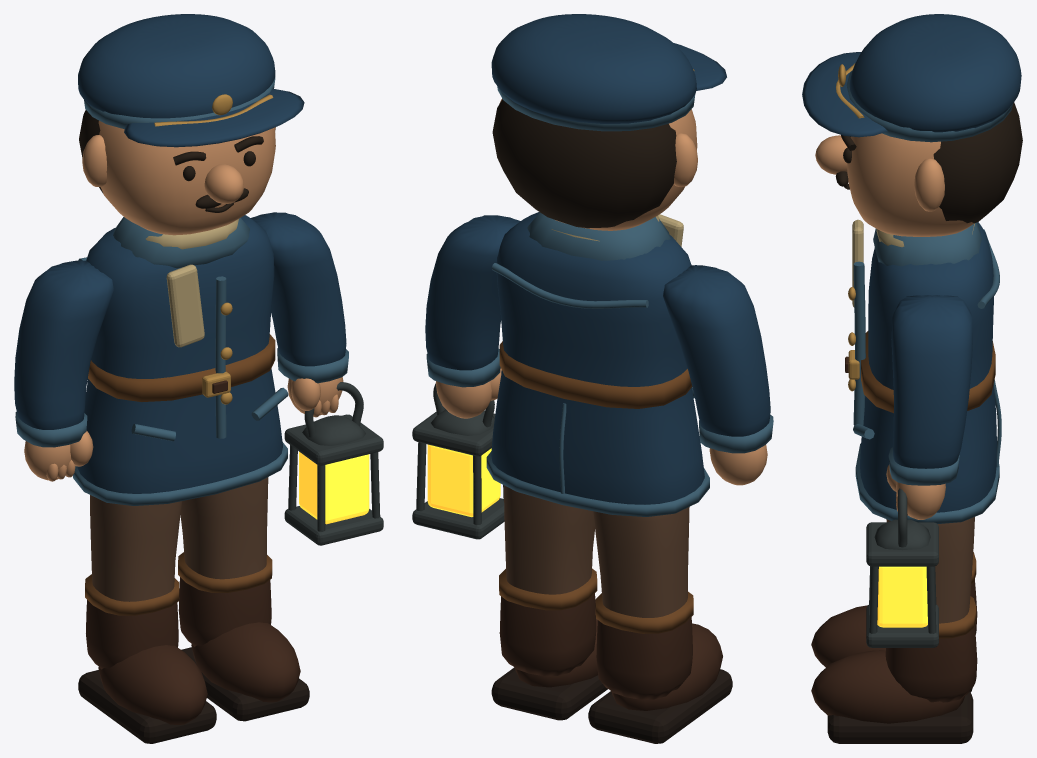
File: keeper_v1.glb
The picture shows the model from 3 angles, left to right: view 1: azimuth 30°, elevation 25°; view 2: azimuth 150°, elevation 25°; view 3: azimuth 270°, elevation 25°; orthographic projection. The views are drawn at different scales.
Parts seen in each view (by area): view 1: Torso, Head, Leg_L, Leg_R, Arm_L, Arm_R, Lantern; view 2: Torso, Head, Leg_L, Leg_R, Arm_L, Arm_R, Lantern; view 3: Head, Torso, Leg_R, Arm_R, Lantern, Leg_L.
Part boxes in pixels (x1,y1,x2,y2): Torso: (73, 215, 288, 505); Head: (78, 14, 304, 235); Leg_L: (78, 495, 216, 743); Leg_R: (178, 477, 309, 721); Arm_L: (14, 260, 113, 481); Arm_R: (250, 212, 348, 417); Lantern: (284, 382, 383, 545); Torso: (486, 212, 709, 516); Head: (491, 14, 726, 230); Leg_L: (588, 507, 732, 743); Leg_R: (491, 485, 607, 720); Arm_L: (663, 265, 773, 485); Arm_R: (425, 215, 520, 418); Lantern: (412, 384, 504, 539); Head: (802, 14, 1022, 236); Torso: (845, 219, 1001, 523); Leg_R: (811, 517, 977, 743); Arm_R: (886, 295, 972, 519); Lantern: (866, 488, 938, 647); Leg_L: (811, 552, 977, 692).
Size of the model in its own units: 0.866 by 1.62 by 0.485.
